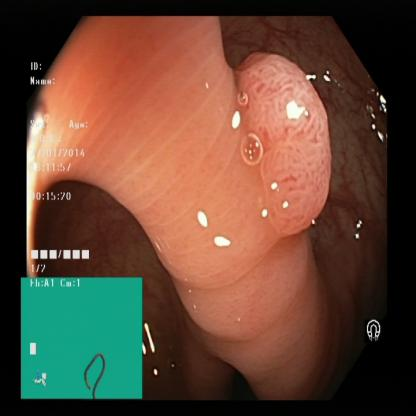Labels: (26, 57, 94, 279), (22, 278, 144, 397), (355, 306, 390, 356)
Polyps: (229, 51, 332, 225)
